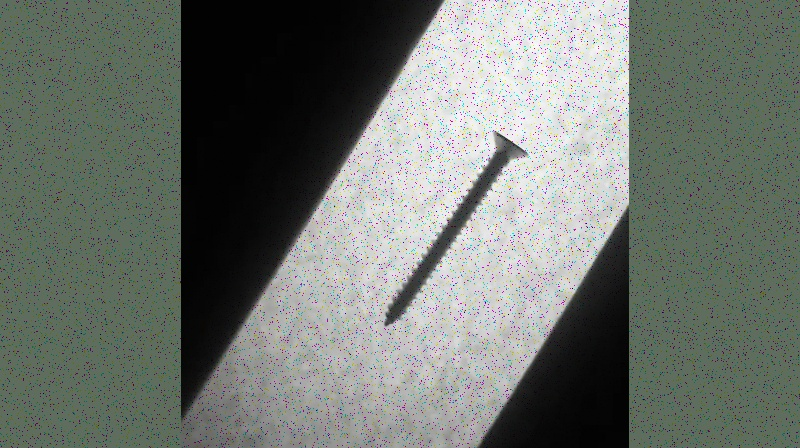S002: (382, 127, 531, 330)
